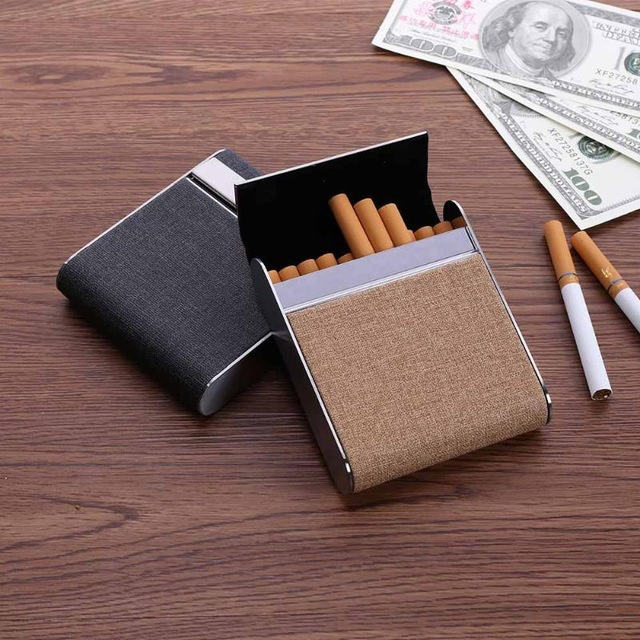cigarette: (537, 221, 618, 408)
